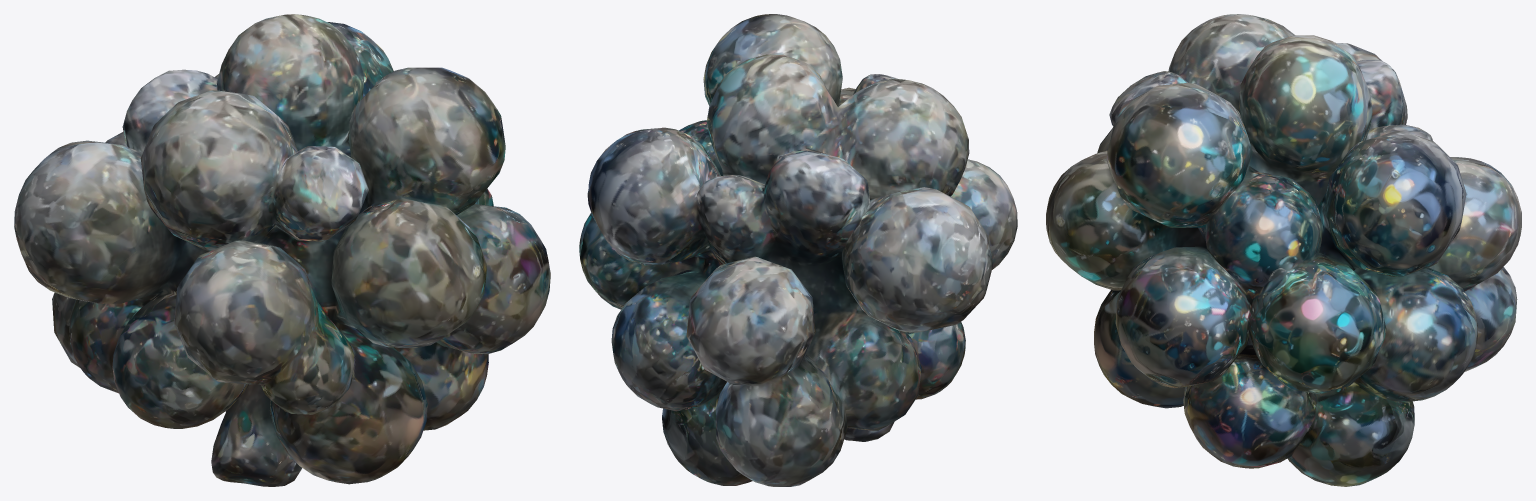
File: artifact-lobster-eyes.glb
3 renders of one model, left to right at view 1: azimuth 30°, elevation 25°; view 2: azimuth 150°, elevation 25°; view 3: azimuth 270°, elevation 25°, orthographic. The views are drawn at different scales.
Parts seen in each view (by area): view 1: tripo_node_def5e941-baae-47f6-8f1f-ad7b1839dc24; view 2: tripo_node_def5e941-baae-47f6-8f1f-ad7b1839dc24; view 3: tripo_node_def5e941-baae-47f6-8f1f-ad7b1839dc24.
Part boxes in pixels (x1,y1,x2,y2): tripo_node_def5e941-baae-47f6-8f1f-ad7b1839dc24: (14, 14, 550, 486); tripo_node_def5e941-baae-47f6-8f1f-ad7b1839dc24: (579, 14, 1017, 486); tripo_node_def5e941-baae-47f6-8f1f-ad7b1839dc24: (1046, 14, 1521, 486).
Size of the model in its own units: 0.9995 by 0.9741 by 0.9849.
1 material, 1 textured.
